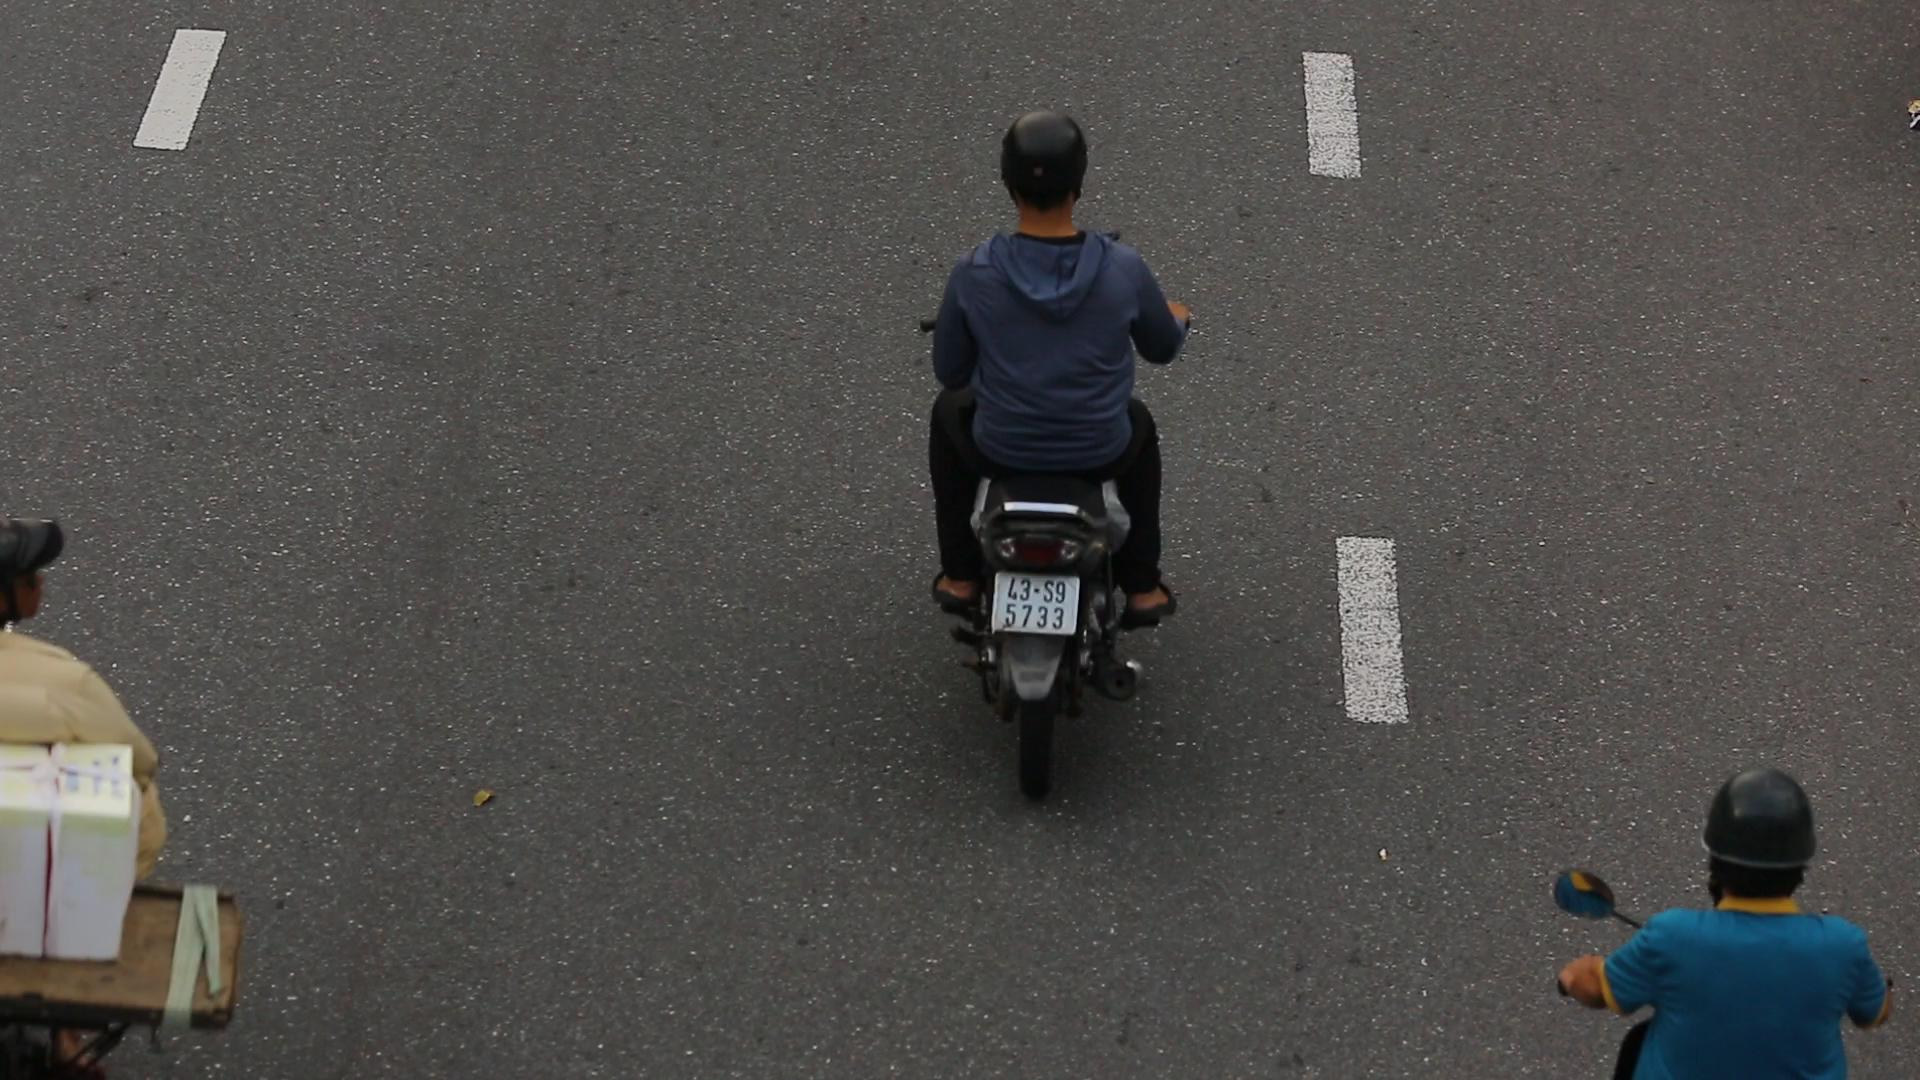motobike: (914, 107, 1191, 796)
